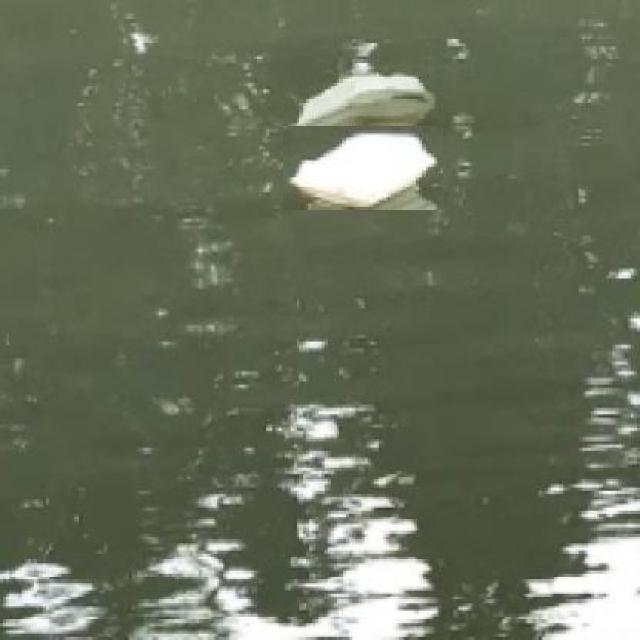Plastic Waste: (282, 126, 442, 210)
